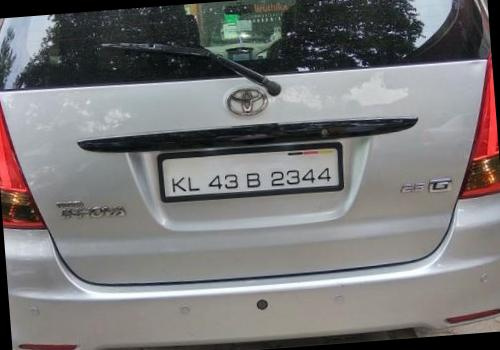plate: (135, 127, 380, 216)
